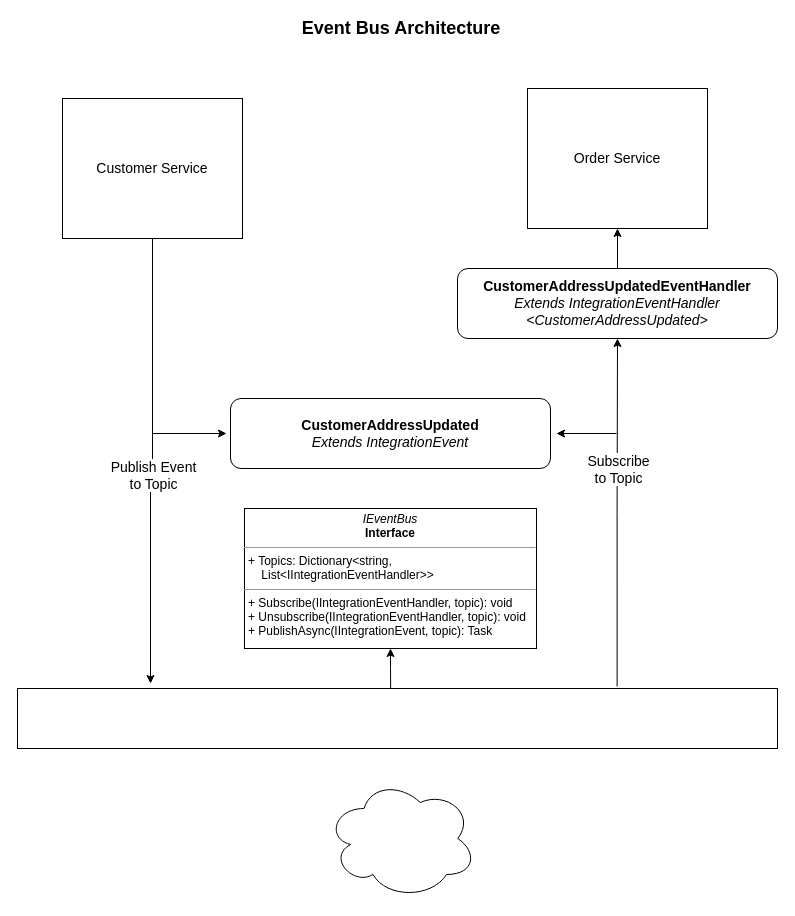
This 795x916 diagram has some shape labels left out. Here are the shapes that lost their labels. From the top down, the centre of each, then its label:
[397,718]: DaprEventBus Implements IEventBus
[401,838]: AWS SNS+SQS
